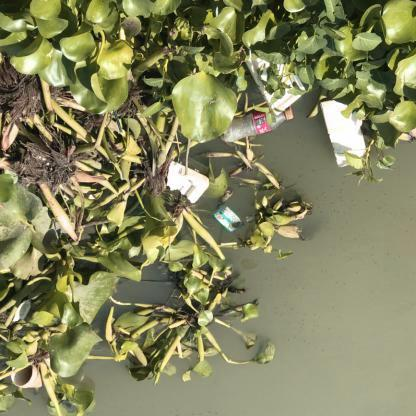Plastic: (216, 107, 296, 144), (10, 362, 43, 392)
Trash: (320, 97, 368, 169), (162, 160, 212, 205), (213, 204, 245, 234)
